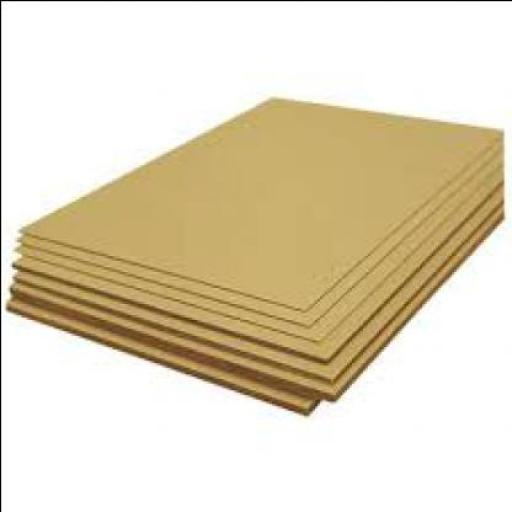cardboard: (6, 93, 508, 412), (20, 95, 506, 307)
